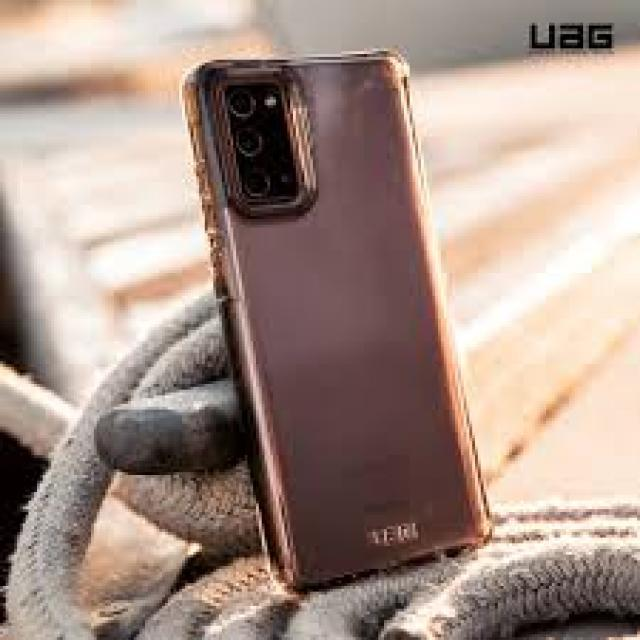phone: (177, 41, 493, 596)
